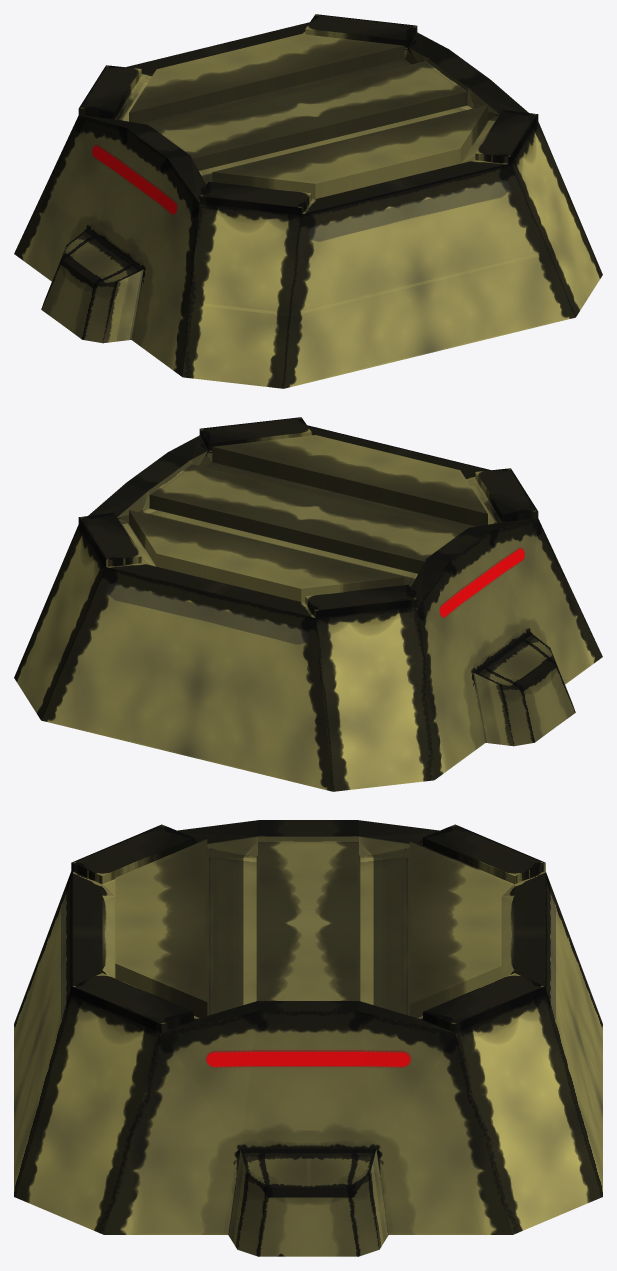
Rendered from bazadobra.fbx.
3 views of the same model, one above another, from view 1: azimuth 30°, elevation 25°; view 2: azimuth 150°, elevation 25°; view 3: azimuth 270°, elevation 25° (orthographic). The views are drawn at different scales.
Parts seen in each view (by area): view 1: Cube; view 2: Cube; view 3: Cube.
Part boxes in pixels (box(x1,y1,x2,y2)): Cube: box(14, 14, 602, 388); Cube: box(14, 417, 602, 791); Cube: box(14, 820, 602, 1256).
Bounding box in the file's own units: 235 × 73.05 × 200.
